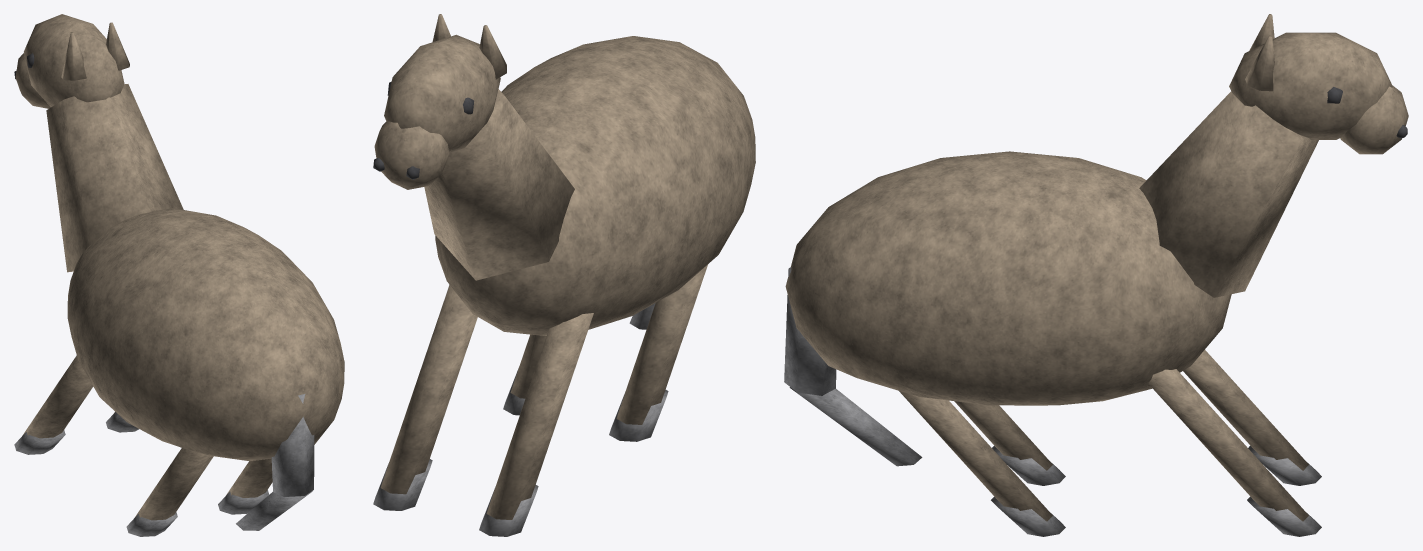
File: mob_kuda_walk1.obj
The picture shows the model from 3 angles, left to right: view 1: azimuth 30°, elevation 25°; view 2: azimuth 150°, elevation 25°; view 3: azimuth 270°, elevation 25°; orthographic projection. The views are drawn at different scales.
Visible parts, largest first — view 1: mob_kuda_walk1; view 2: mob_kuda_walk1; view 3: mob_kuda_walk1.
Part boxes in pixels (box(x1,y1,x2,y2)): mob_kuda_walk1: box(14, 14, 344, 536); mob_kuda_walk1: box(373, 14, 755, 536); mob_kuda_walk1: box(784, 14, 1408, 536).
Bounding box in the file's own units: 0.8439 × 1.68 × 2.
Materials: 1 (1 with a texture image).
